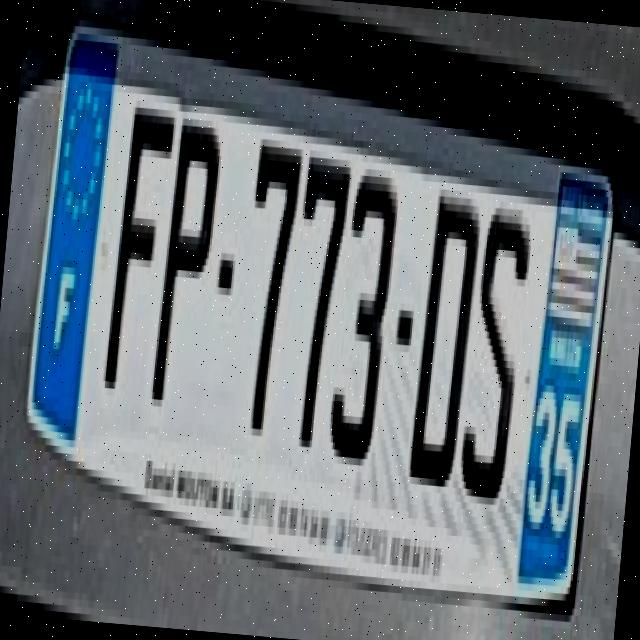EU: (23, 19, 614, 606)
France: (30, 36, 120, 434)
